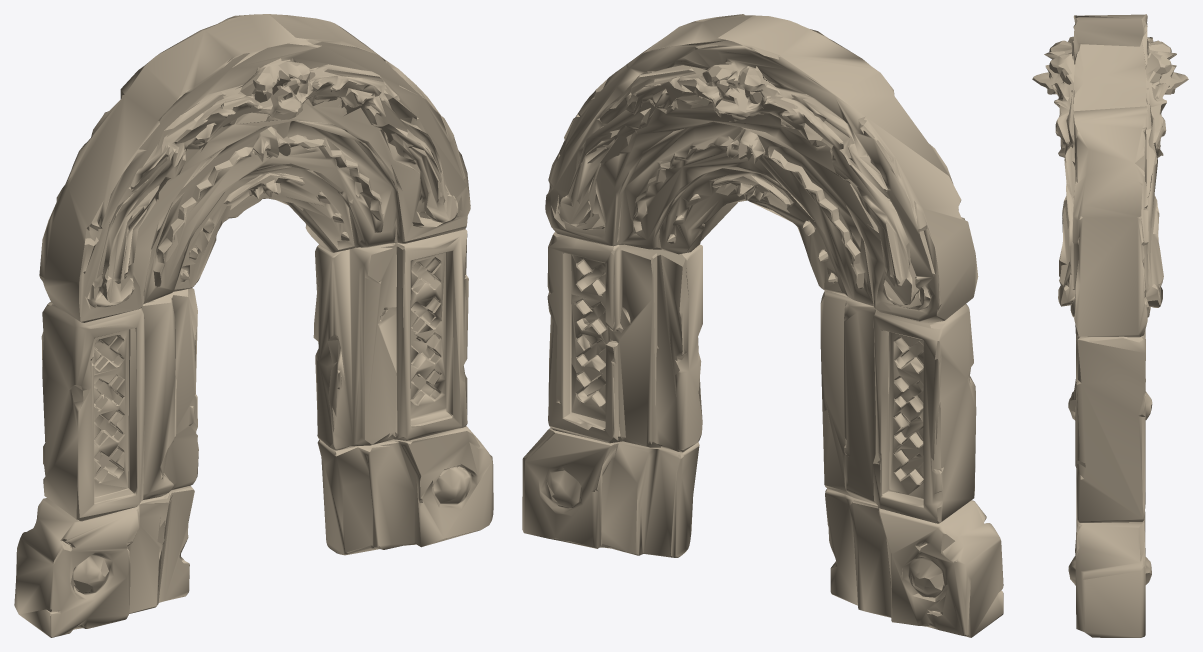
The model's file is Arch_01.glb.
The picture shows the model from 3 angles, left to right: view 1: azimuth 30°, elevation 25°; view 2: azimuth 150°, elevation 25°; view 3: azimuth 270°, elevation 25°; orthographic projection. The views are drawn at different scales.
Visible parts, largest first — view 1: Arch; view 2: Arch; view 3: Arch.
Boxes of the visible parts, x1=… form: Arch: x1=14, y1=14, x2=493, y2=637; Arch: x1=522, y1=14, x2=1003, y2=637; Arch: x1=1032, y1=14, x2=1188, y2=637.
Size of the model in its own units: 2.6 by 3 by 0.8439.
